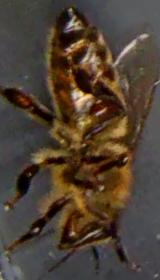varroa_mite: (80, 88, 114, 122)
